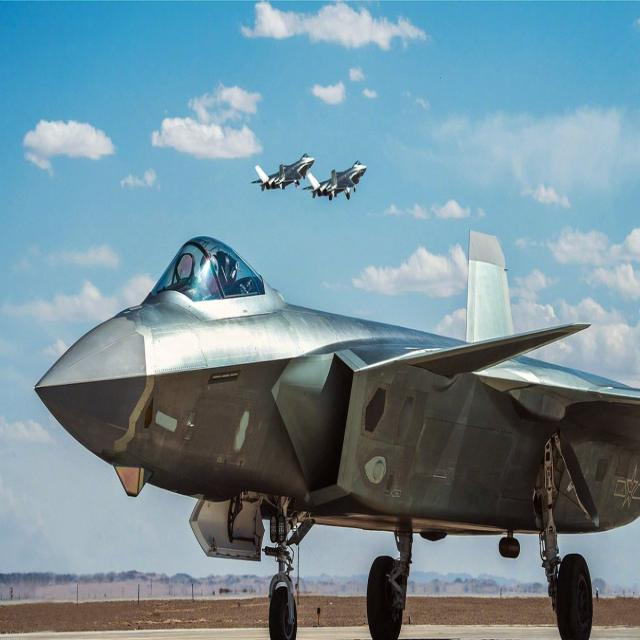MIL_Plane: (32, 235, 640, 640), (302, 160, 368, 201), (250, 152, 316, 192)
